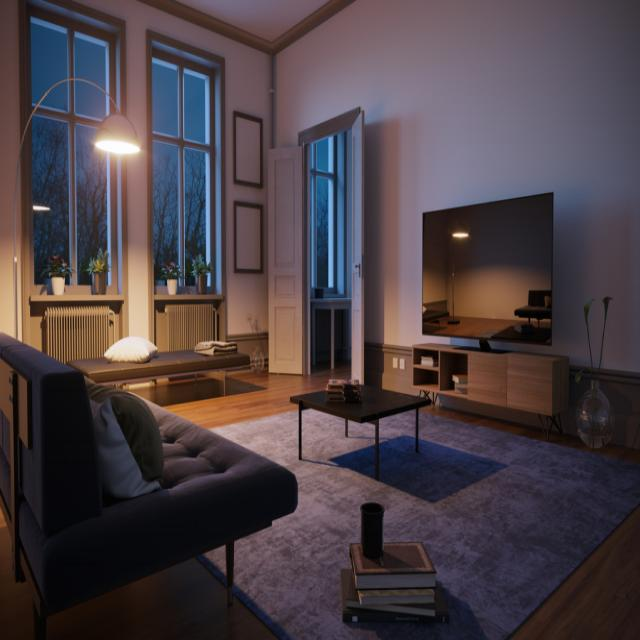a sofa: (3, 321, 290, 582)
beside table: (414, 335, 570, 429)
door: (306, 114, 362, 373)
table: (90, 318, 264, 406), (293, 353, 431, 455)
television: (416, 182, 570, 350)
window: (28, 7, 131, 300), (139, 30, 228, 302)
